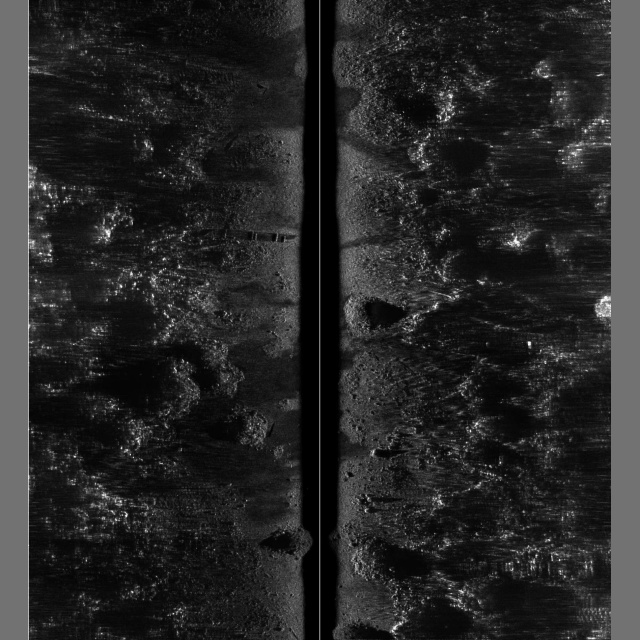Shipwreck: (193, 82, 299, 244)
